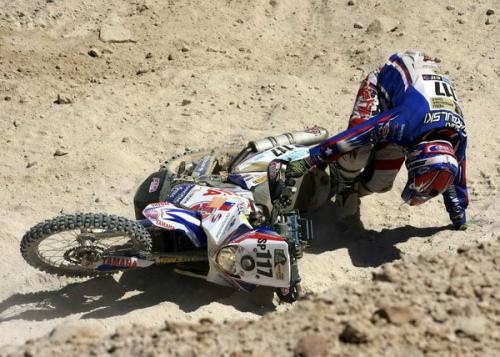falling: (278, 35, 482, 246)
